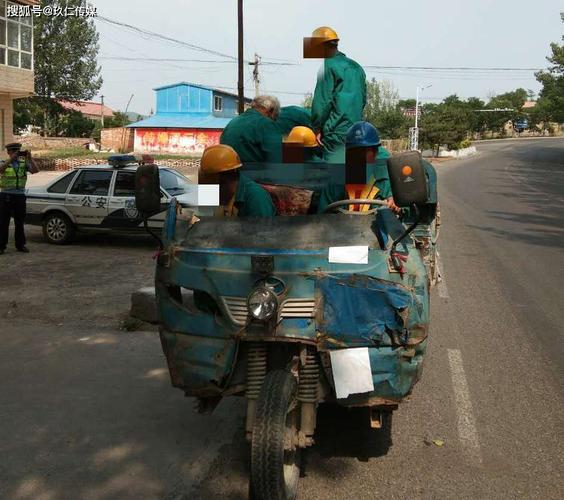driver: (337, 120, 408, 276)
overloading: (131, 12, 455, 398)
passenger: (170, 113, 285, 245), (297, 21, 364, 157), (223, 76, 291, 178)
